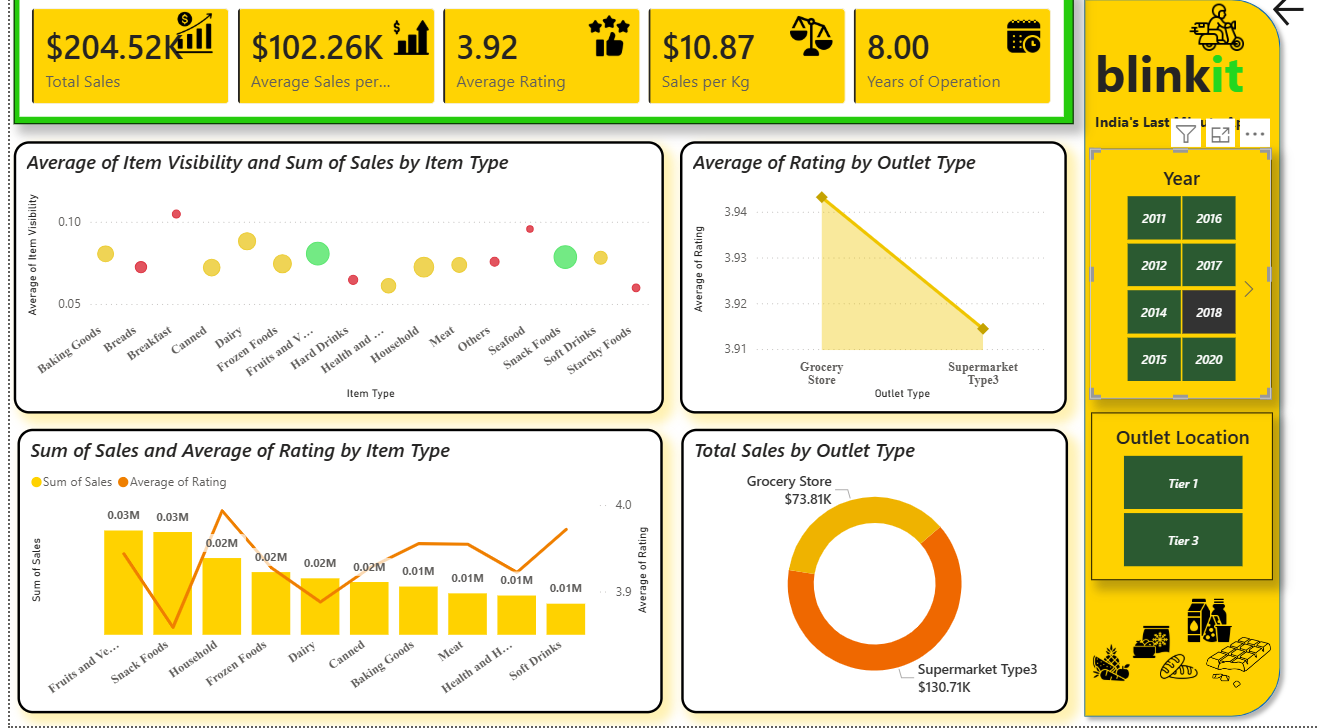

The dashboard page shown, as its layout file describes it:
{"tool":"powerbi","page":{"name":"Performance & Operations","canvas":[1280,720],"ordinal":1},"visuals":[{"type":"shape","box":[1041.2,0,210,720],"z":0},{"type":"textbox","box":[1056.2,42.5,177.5,80],"z":1000},{"type":"textbox","box":[1056.5,113.7,177.3,34.2],"z":2000},{"type":"cardVisual","fields":{"Data":["BlinkIT Grocery Data.Total Sales","BlinkIT Grocery Data.Average Sales per Outlet","BlinkIT Grocery Data.Average Rating","BlinkIT Grocery Data.Sales per Kg","BlinkIT Grocery Data.Years of Oper"]},"box":[3.7,0,1037,130.8],"z":3000},{"type":"image","box":[151.6,20.8,57.5,41.6],"z":4000},{"type":"image","box":[374.2,26.9,36.7,39.1],"z":5000},{"type":"image","box":[566.2,20.8,40.4,47.7],"z":6000},{"type":"image","box":[763,23.2,41.6,42.8],"z":7000},{"type":"image","box":[974.6,18.3,34.2,53.8],"z":8000},{"type":"slicer","title":"Year","fields":{"Values":["BlinkIT Grocery Data.Outlet Establishment Year"]},"box":[1056.2,155,177.5,245],"z":9000},{"type":"image","box":[1146.2,10,70,56.2],"z":10000},{"type":"image","box":[1056.5,638.3,41.6,39.1],"z":11000},{"type":"image","box":[1170.3,629.8,63.6,56.3],"z":12000},{"type":"image","box":[1098.1,607.7,36.7,59.9],"z":13000},{"type":"image","box":[1145.8,595.5,56.3,42.8],"z":14000},{"type":"image","box":[1125,629.8,36.7,63.6],"z":15000},{"type":"scatterChart","fields":{"Size":["Sum(BlinkIT Grocery Data.Sales)"],"Y":["Avg(BlinkIT Grocery Data.Item Visibility)"],"X":["BlinkIT Grocery Data.Item Type"]},"box":[3.8,147.5,636.2,266.2],"z":16000},{"type":"lineStackedColumnComboChart","fields":{"Category":["BlinkIT Grocery Data.Item Type"],"Y":["Sum(BlinkIT Grocery Data.Sales)"],"Y2":["Avg(BlinkIT Grocery Data.Rating)"]},"box":[7.5,428.8,631.2,278.8],"z":17000},{"type":"lineChart","fields":{"Y":["Avg(BlinkIT Grocery Data.Rating)"],"Category":["BlinkIT Grocery Data.Outlet Type"]},"box":[655,147.5,378.8,266.2],"z":18000},{"type":"slicer","title":"Outlet Location","fields":{"Values":["BlinkIT Grocery Data.Outlet Location Type"]},"box":[1057.5,413.8,177.5,163.8],"z":19000},{"type":"donutChart","fields":{"Category":["BlinkIT Grocery Data.Outlet Type"],"Y":["BlinkIT Grocery Data.Total Sales"]},"box":[656.2,428.8,378.8,278.8],"z":20000},{"type":"actionButton","box":[1231.2,0,48.8,40],"z":21000}]}

Visuals, with their boxes in screenshot pixels (x1, y1, x2, y2), scaled from the page's 1280x720 canvas onto the 1317x728 screenshot:
shape: box=[1071, 0, 1287, 727]
textbox: box=[1087, 43, 1269, 124]
textbox: box=[1087, 115, 1269, 150]
cardVisual - BlinkIT Grocery Data.Total Sales x BlinkIT Grocery Data.Average Sales per Outlet: box=[4, 0, 1071, 132]
image: box=[156, 21, 215, 63]
image: box=[385, 27, 423, 67]
image: box=[583, 21, 624, 69]
image: box=[785, 23, 828, 67]
image: box=[1003, 19, 1038, 73]
"Year" slicer: box=[1087, 157, 1269, 404]
image: box=[1179, 10, 1251, 67]
image: box=[1087, 645, 1130, 685]
image: box=[1204, 637, 1270, 694]
image: box=[1130, 614, 1168, 675]
image: box=[1179, 602, 1237, 645]
image: box=[1158, 637, 1195, 701]
scatterChart - Sum(BlinkIT Grocery Data.Sales) x Avg(BlinkIT Grocery Data.Item Visibility): box=[4, 149, 658, 418]
lineStackedColumnComboChart - BlinkIT Grocery Data.Item Type x Sum(BlinkIT Grocery Data.Sales): box=[8, 434, 657, 715]
lineChart - Avg(BlinkIT Grocery Data.Rating) x BlinkIT Grocery Data.Outlet Type: box=[674, 149, 1064, 418]
"Outlet Location" slicer: box=[1088, 418, 1271, 584]
donutChart - BlinkIT Grocery Data.Outlet Type x BlinkIT Grocery Data.Total Sales: box=[675, 434, 1065, 715]
actionButton: box=[1267, 0, 1316, 40]
